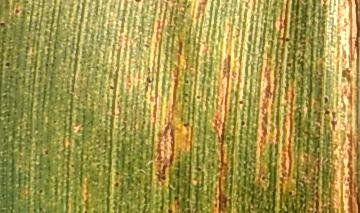tarspot: (320, 91, 332, 106), (142, 73, 155, 85), (193, 163, 205, 176), (282, 59, 296, 70), (281, 33, 293, 45), (12, 5, 22, 19), (2, 58, 13, 70), (106, 81, 117, 93), (238, 118, 249, 130), (236, 95, 246, 108), (322, 106, 332, 119), (113, 167, 124, 178), (36, 185, 46, 197), (182, 76, 192, 88), (182, 118, 191, 130), (112, 179, 122, 189), (193, 93, 203, 103), (258, 171, 267, 182), (285, 188, 296, 197), (159, 173, 168, 184), (171, 192, 180, 203), (166, 203, 175, 213), (157, 202, 166, 211), (1, 20, 9, 29), (184, 206, 193, 213)
